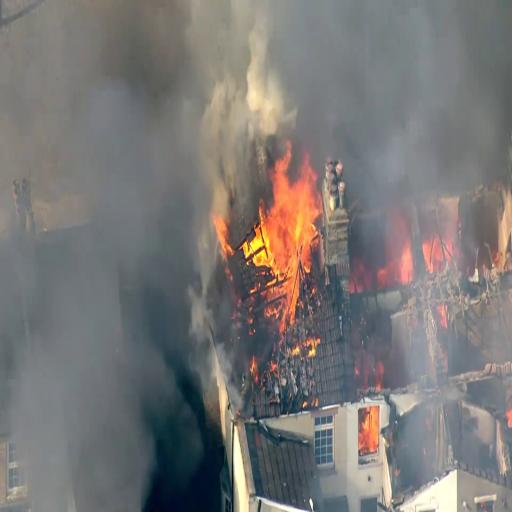fire: (230, 146, 331, 284)
